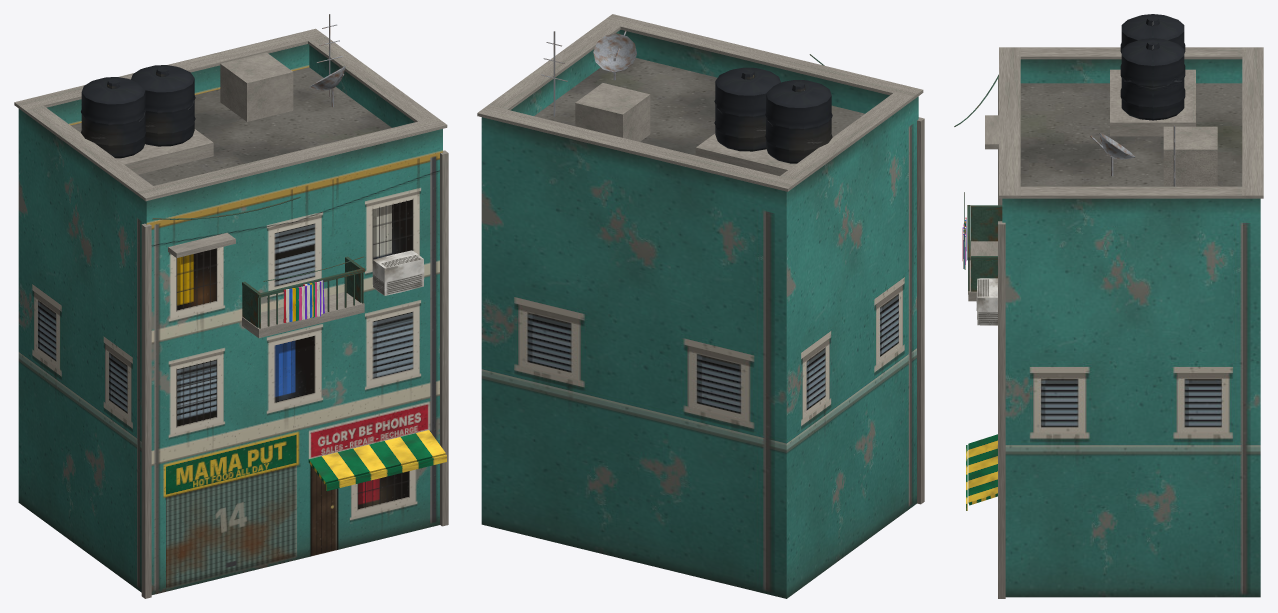
Rendered from env_building_a.glb.
3 views of the same model, side by side, from view 1: azimuth 30°, elevation 25°; view 2: azimuth 150°, elevation 25°; view 3: azimuth 270°, elevation 25° (orthographic). The views are drawn at different scales.
Parts seen in each view (by area): view 1: env_building_a_body; view 2: env_building_a_body; view 3: env_building_a_body.
Boxes of the visible parts, x1,y1,x2,y2 form: env_building_a_body: [14, 14, 448, 598]; env_building_a_body: [477, 14, 924, 598]; env_building_a_body: [954, 14, 1263, 598].
Size of the model in its own units: 3.28 by 4.69 by 2.89.
Materials: 1 (1 with a texture image).
